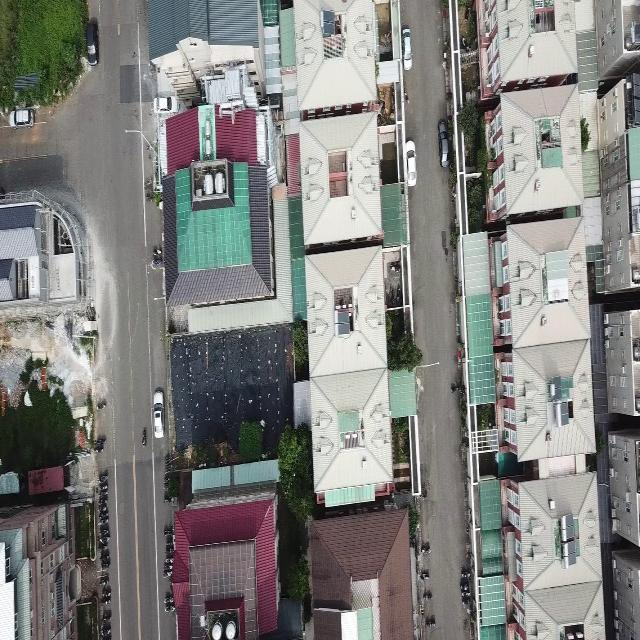car: (405, 130, 420, 187), (437, 116, 451, 172), (84, 20, 100, 66), (152, 386, 164, 437), (400, 29, 414, 72), (10, 107, 32, 129)
